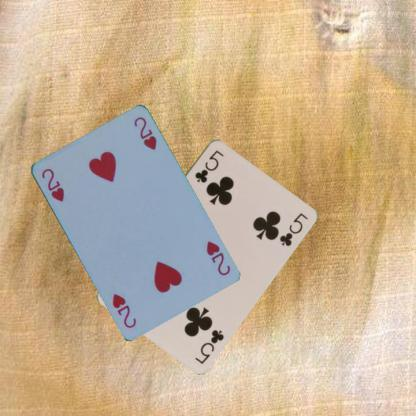2h: (203, 238, 231, 277), (38, 165, 65, 203)
5c: (192, 326, 226, 365), (192, 147, 225, 184)
